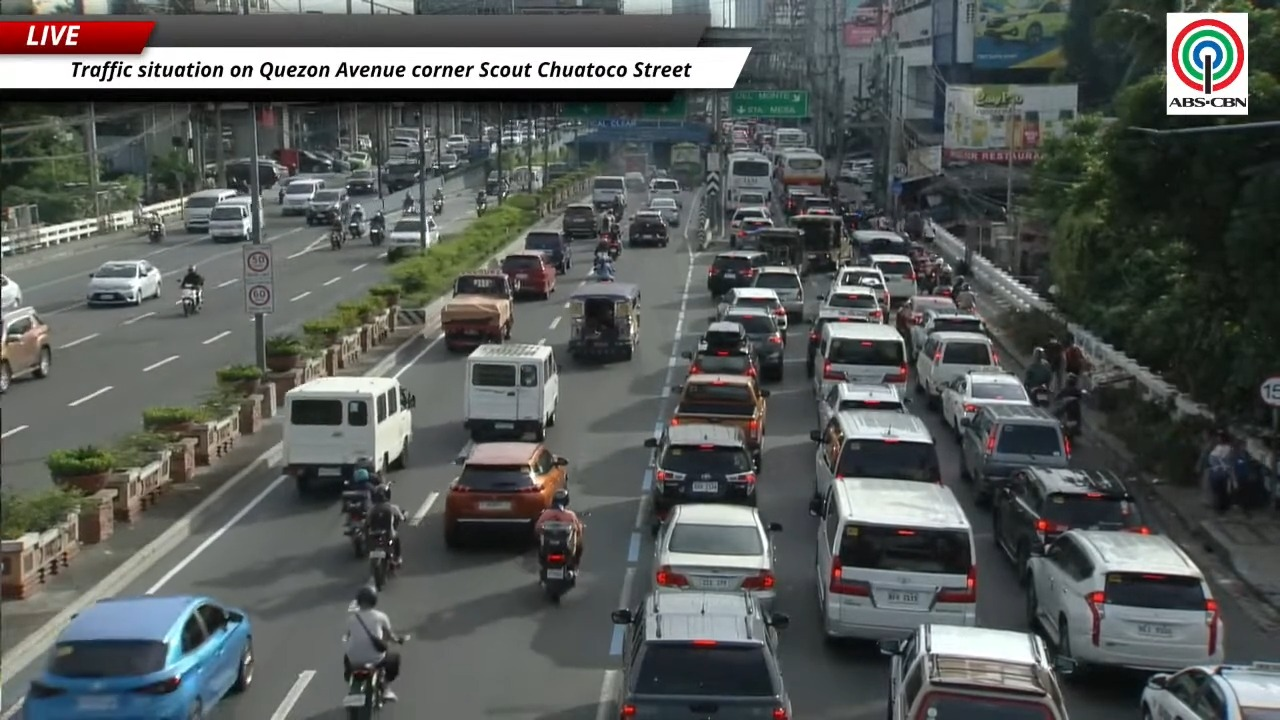bus: (724, 152, 772, 214)
car: (1026, 529, 1224, 678), (22, 596, 254, 719), (611, 588, 791, 719), (992, 466, 1149, 582), (879, 624, 1067, 719), (654, 503, 781, 610), (444, 442, 567, 547), (644, 423, 756, 533), (959, 405, 1070, 504), (1141, 662, 1279, 719), (915, 332, 1000, 407), (940, 370, 1031, 435), (720, 307, 785, 381), (0, 307, 51, 393), (682, 322, 758, 376), (817, 382, 907, 427), (907, 303, 987, 353), (981, 0, 1067, 46), (806, 308, 860, 377), (895, 295, 954, 354), (717, 287, 787, 335), (86, 261, 161, 305), (706, 250, 767, 296), (753, 265, 803, 321), (868, 253, 916, 306), (683, 343, 758, 376), (831, 265, 889, 307), (819, 286, 886, 322), (388, 216, 438, 256), (306, 187, 349, 226), (627, 211, 669, 247), (698, 321, 748, 351), (729, 217, 774, 248), (562, 203, 598, 237), (382, 160, 419, 192), (729, 206, 771, 231), (648, 197, 680, 226), (783, 187, 816, 215), (648, 177, 680, 204), (345, 170, 377, 195), (0, 274, 22, 309), (737, 190, 767, 206), (346, 152, 371, 169)
motorcycle: (538, 523, 576, 602), (342, 664, 384, 719), (342, 488, 369, 558), (367, 532, 395, 590), (1052, 394, 1082, 442), (180, 285, 201, 316), (589, 261, 615, 281), (1029, 384, 1051, 407), (148, 220, 165, 243), (329, 227, 345, 250), (347, 219, 364, 239), (370, 225, 384, 246), (608, 242, 621, 260), (402, 196, 415, 213), (432, 199, 444, 215), (277, 184, 285, 203), (476, 202, 486, 216)
truck: (671, 374, 769, 471), (441, 270, 513, 351), (669, 143, 704, 187), (623, 152, 648, 174)
